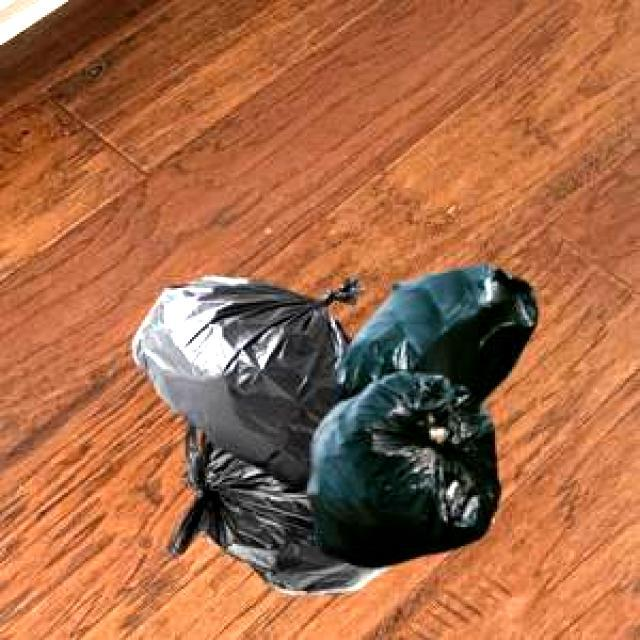Garbage_Bag: (304, 262, 534, 564), (129, 274, 362, 488), (163, 419, 387, 592)
